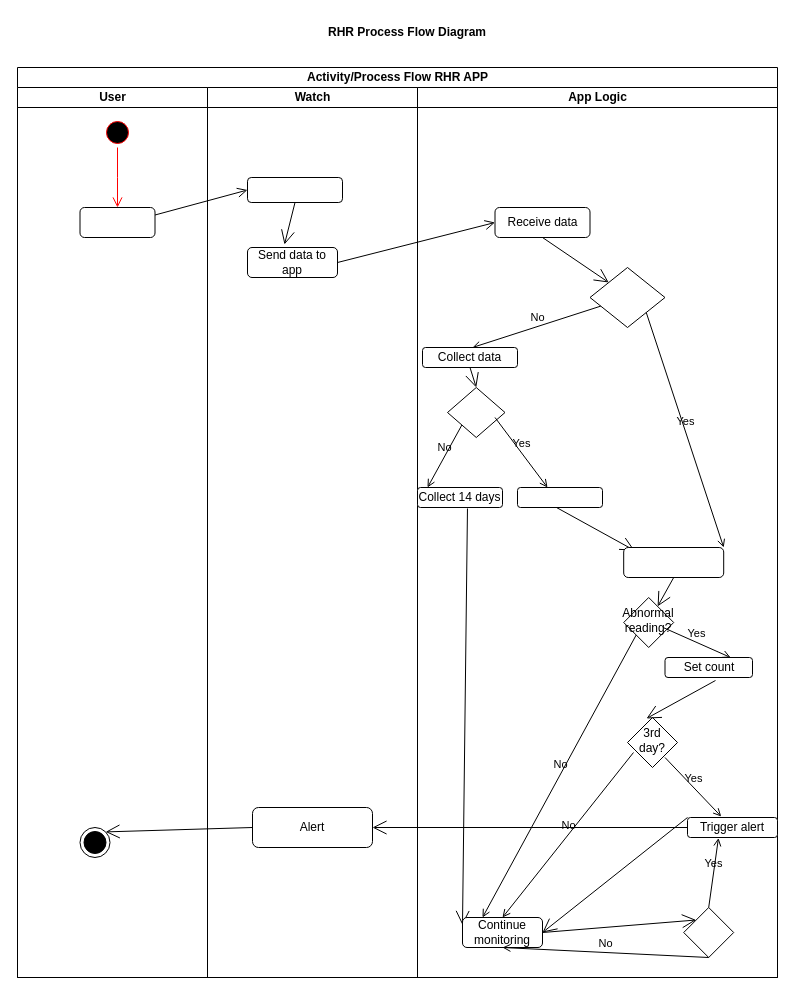
This 795x995 diagram has some shape labels left out. Here are the shapes that lost their labels. From the top down, the centre of each, then its label:
At (294,189): "Record daily resting heart rate".
At (117,222): "Start app".
At (627,297): "30-day baseline?".
At (475,412): "14 day baseline?".
At (559,497): "Establish prelim baseline".
At (673,562): "Compare DRHR to baseline".
At (708,932): "Normalizing?".
